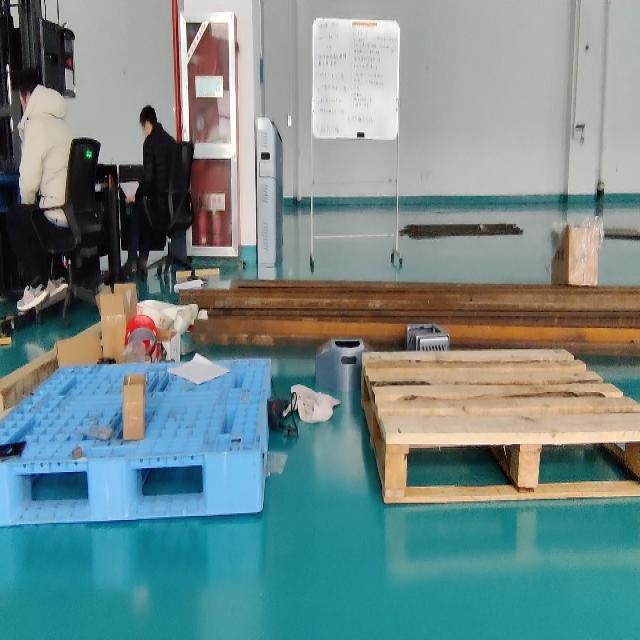euro: (362, 349, 640, 503)
